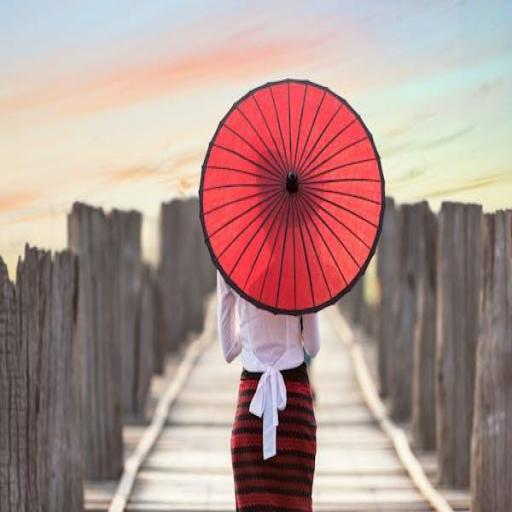guarda_chuva: (198, 77, 386, 315)
